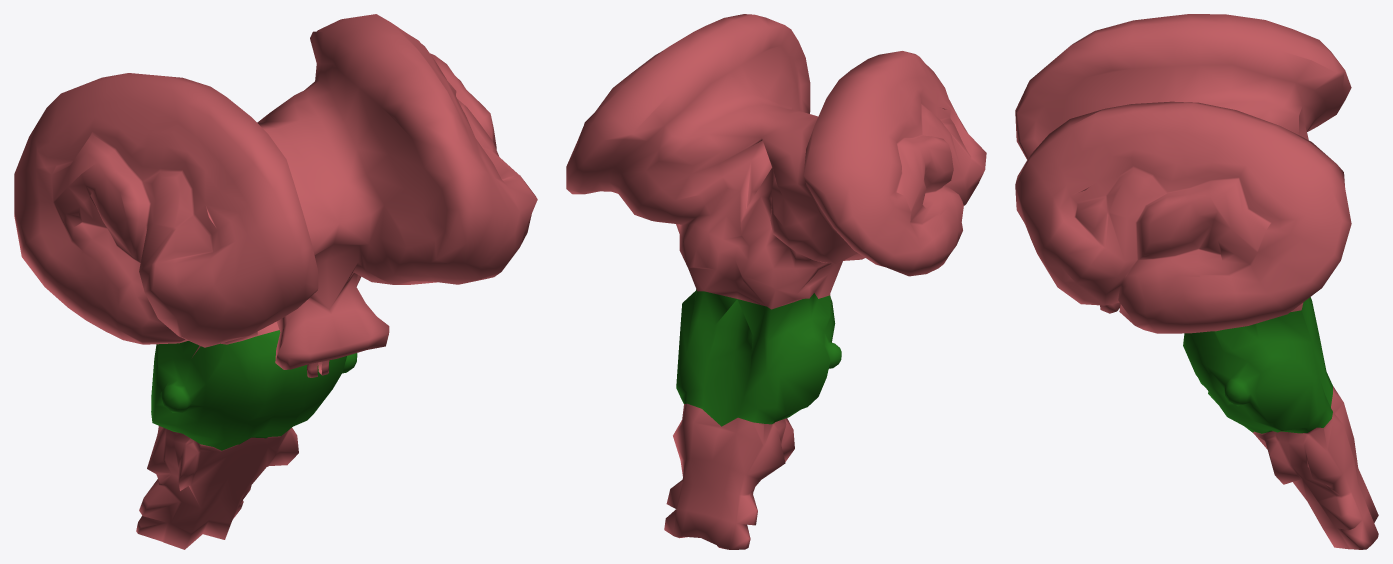
Rendered from pons.glb.
3 renders of one model, left to right at view 1: azimuth 30°, elevation 25°; view 2: azimuth 150°, elevation 25°; view 3: azimuth 270°, elevation 25°, orthographic. The views are drawn at different scales.
Parts seen in each view (by area): view 1: Brain_Part_05.001; view 2: Brain_Part_05.001; view 3: Brain_Part_05.001.
Part boxes in pixels (x1=…): Brain_Part_05.001: x1=14, y1=14, x2=537, y2=549; Brain_Part_05.001: x1=566, y1=14, x2=986, y2=549; Brain_Part_05.001: x1=1015, y1=14, x2=1378, y2=549.
Size of the model in its own units: 2.41 by 2.92 by 2.02.
